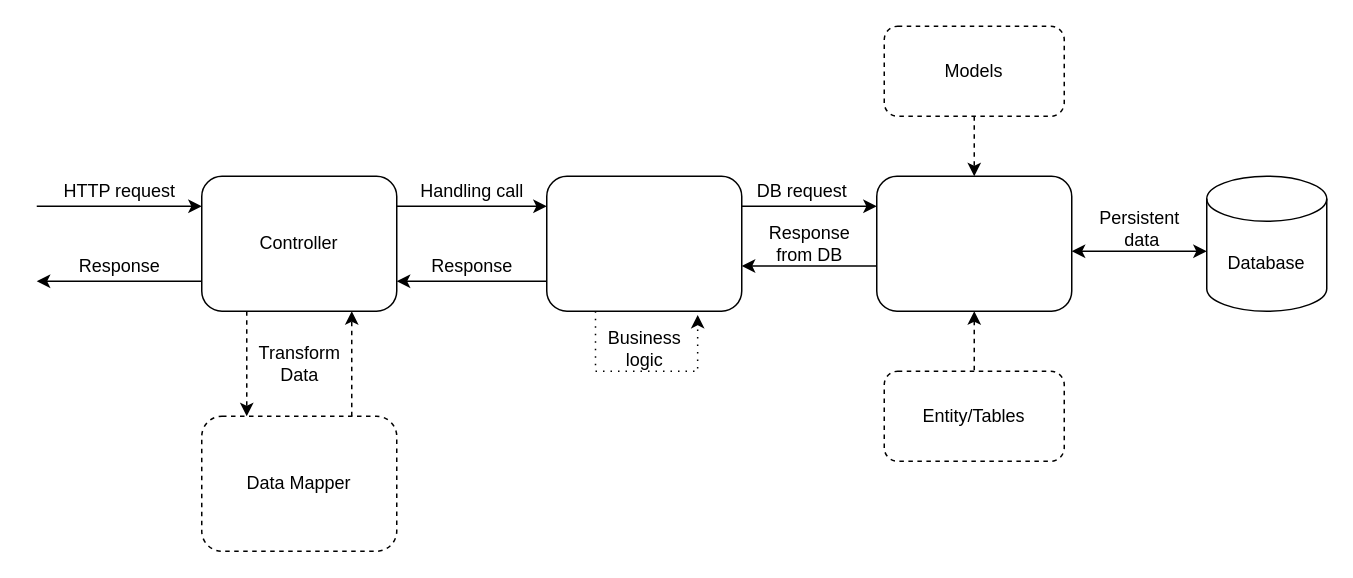
This 1353x578 diagram has some shape labels left out. The shapes that lost their labels are listed below. From the top down, each one's centre as x and y in pixels, then its label:
[643,243]: Service
[973,243]: Repository
